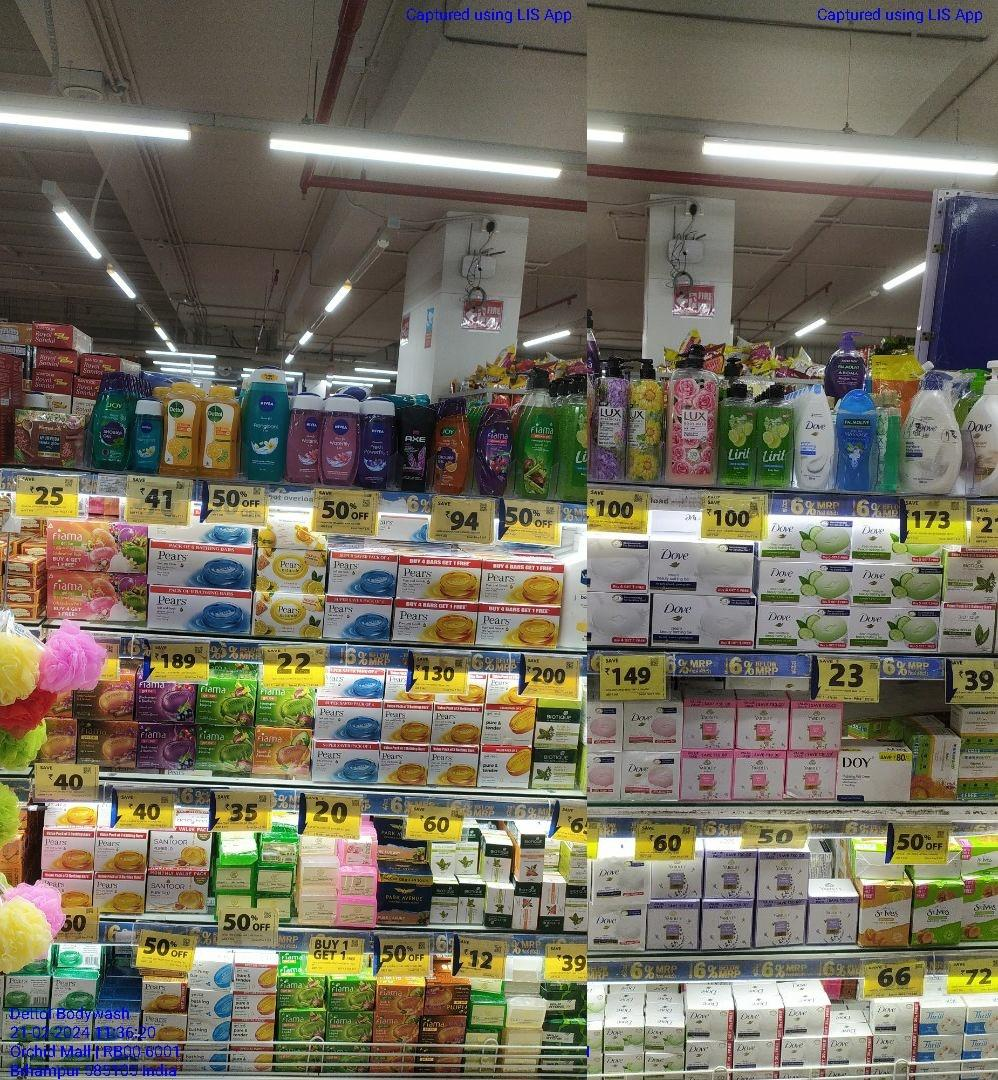Dettol_Bodywash_Refresh: (200, 384, 238, 477), (164, 382, 198, 476)
Dove_Gentle_Exfoliating_Body_Wash_250ML: (797, 380, 833, 489)
Joy_Shower_Gel_Mandarin_and_Lemongrass_250ML: (436, 401, 467, 495)
Joy_Shower_Gel_Mint_and_Eucalyptus_250ML: (94, 371, 131, 469)
Liril_Lime_and_Tea_Tree_Oil_Body_Wash_250ML: (757, 382, 792, 489), (719, 379, 754, 484)
Nivea_Shower_Gel_Frangipani_and_Oil_250ML: (242, 365, 285, 480), (132, 401, 160, 471)
Nivea_Shower_Gel_Fresh_Powerfruit_250ML: (362, 400, 394, 488)
Nivea_Shower_Gel_Waterlily_and_Oil_250ML: (323, 390, 360, 488), (288, 390, 319, 481)
Palmolive_Aroma_Moments_Feel_The_Massage_Shower_Gel_250ML: (837, 390, 878, 489)
